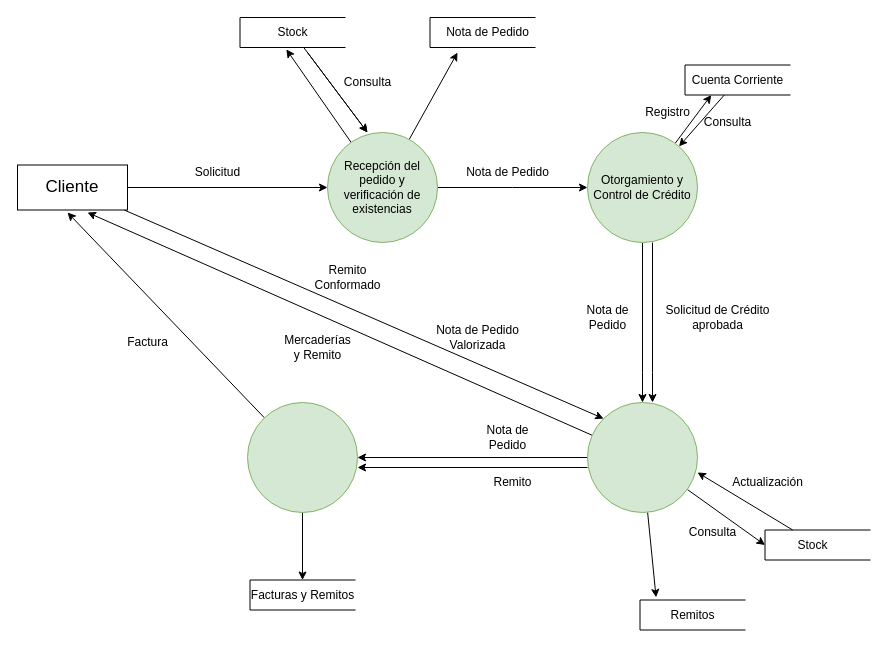
Image size: 888x648. Some labels were removed from this diagram. The shapes that lost their labels are listed below. From the top down, each one's centre as x and y in pixels, then its label:
At (302,457): "Facturación".
At (642,457): "Preparación y Despacho".
